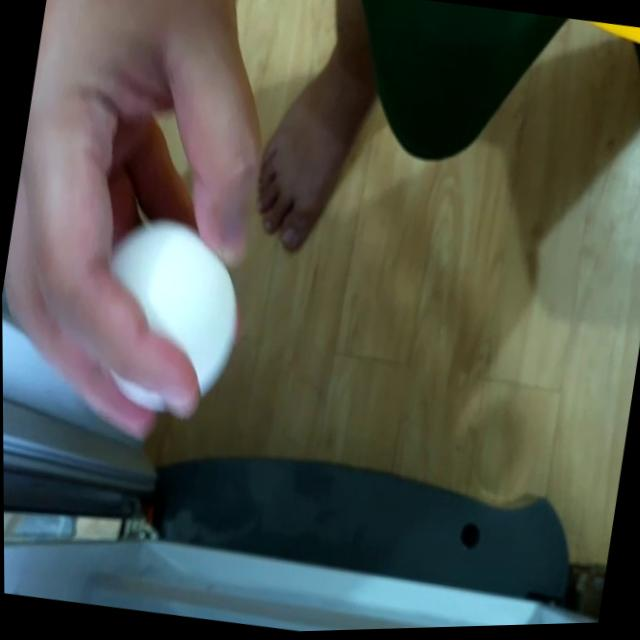egg: (81, 208, 251, 403)
